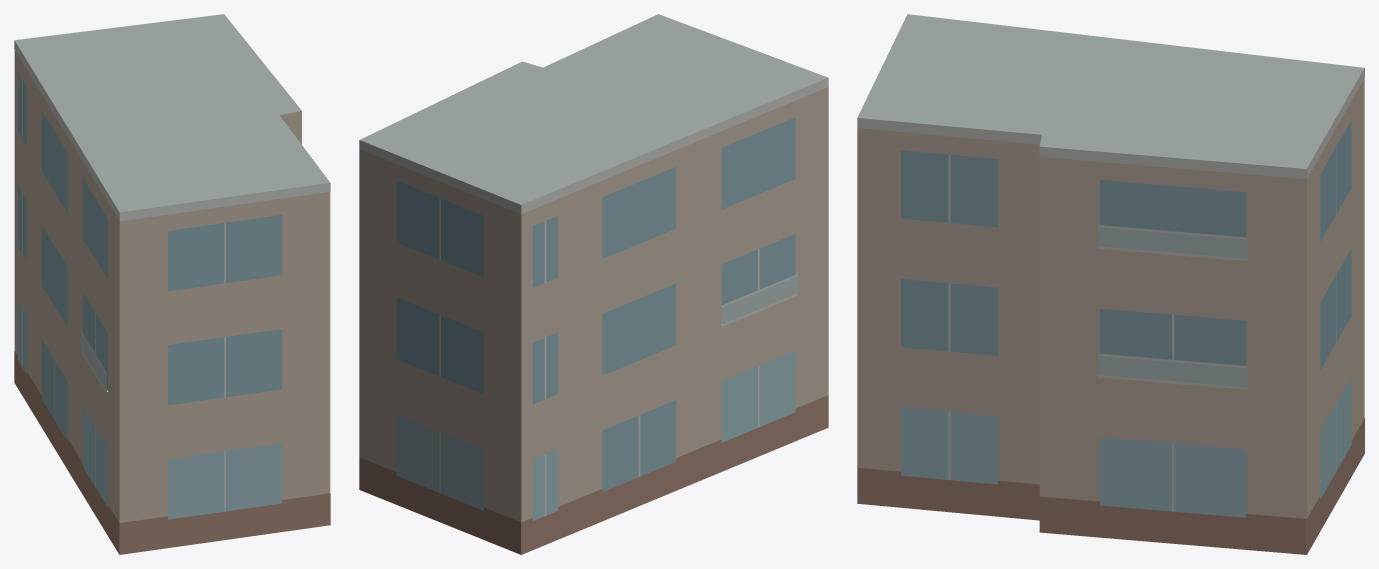
The model's file is survey-upis-32517073.glb.
The picture shows the model from 3 angles, left to right: view 1: azimuth 30°, elevation 25°; view 2: azimuth 150°, elevation 25°; view 3: azimuth 270°, elevation 25°; orthographic projection. The views are drawn at different scales.
Parts seen in each view (by area): view 1: survey-upis-32517073.tmp; view 2: survey-upis-32517073.tmp; view 3: survey-upis-32517073.tmp.
Part boxes in pixels (bbox=[...]): survey-upis-32517073.tmp: bbox=[14, 14, 330, 554]; survey-upis-32517073.tmp: bbox=[359, 14, 828, 554]; survey-upis-32517073.tmp: bbox=[857, 14, 1364, 554].
Bounding box in the file's own units: 8.02 × 9.3 × 11.1.
